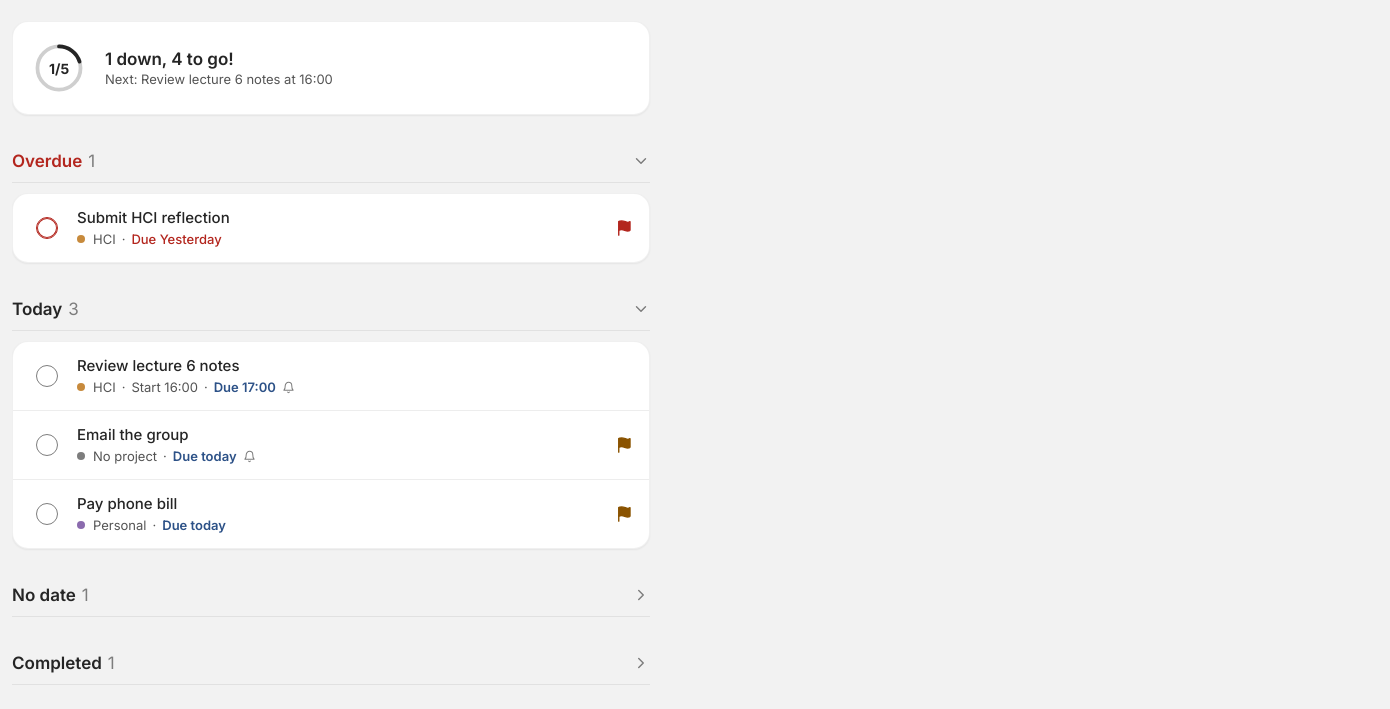
Scenario: Inbox screen › collapses No date and Completed as disclosures (A11Y-53)
(page scrolled)
Expected: the link "Read chapter 4 for SQL" is not shown
Click the button named "Completed, 1 task" at (57, 662), box x1=12 y1=641 x2=650 y2=685
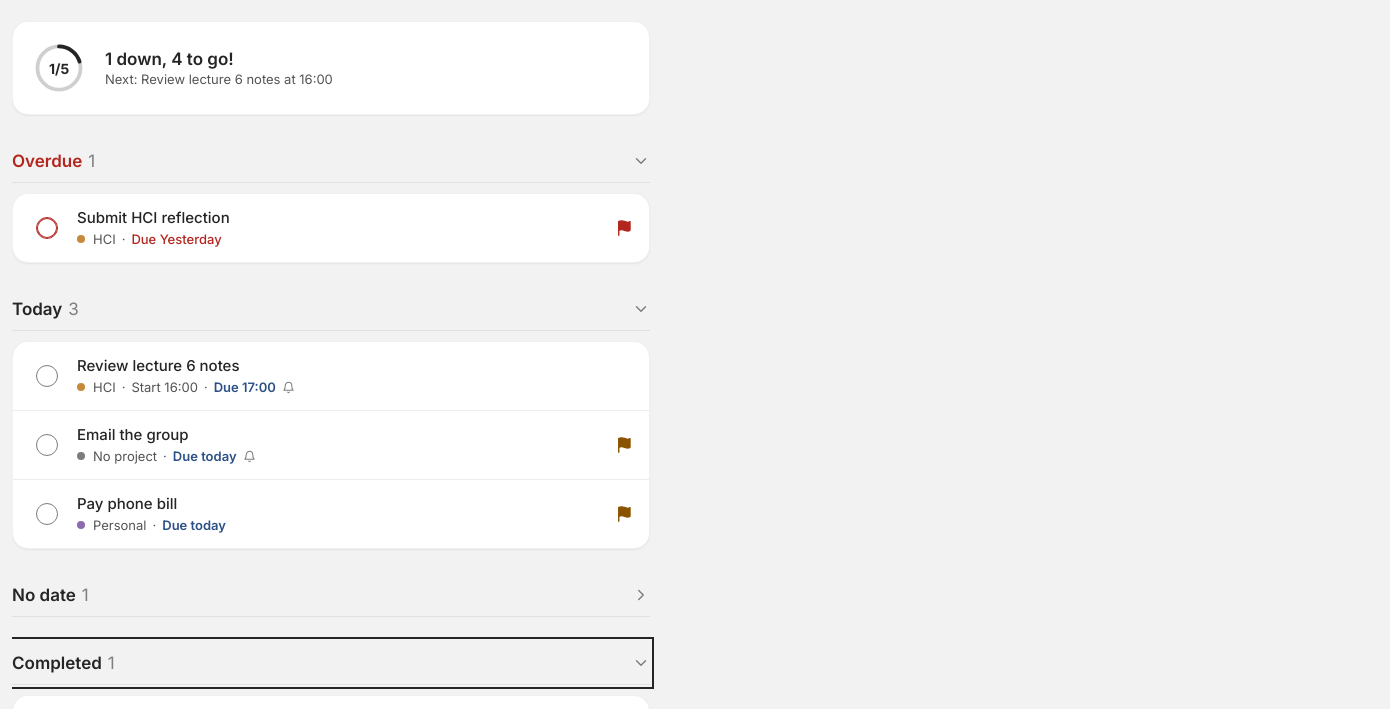
Result: the button named "Completed, 1 task" is expanded at x1=12 y1=641 x2=650 y2=685
